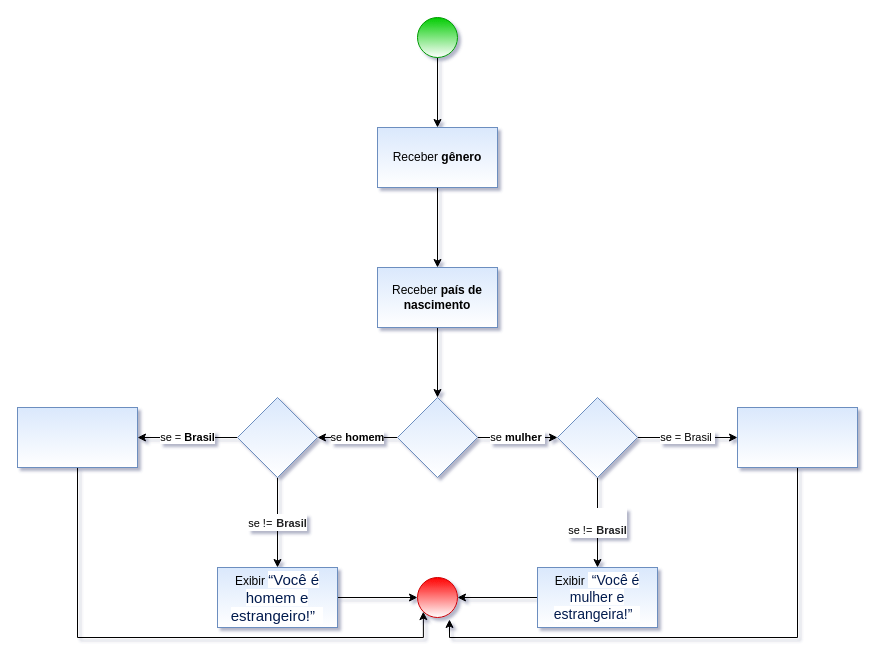
Some shapes in this 881 by 669 pixel diagram are drawn without their labels. The centre of each missing label's shape, as x and y in pixels:
Exibir “Você é homem e brasileiro!”: (x=77, y=437)
Exibir “Você é mulher e brasileira!”: (x=797, y=437)
